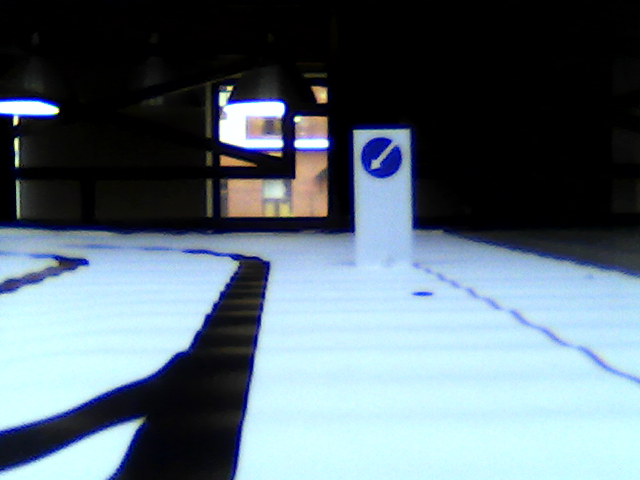prep: (358, 136, 406, 178)
